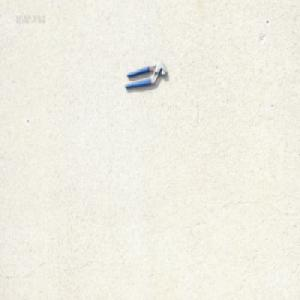Pliers: (124, 60, 167, 89)
